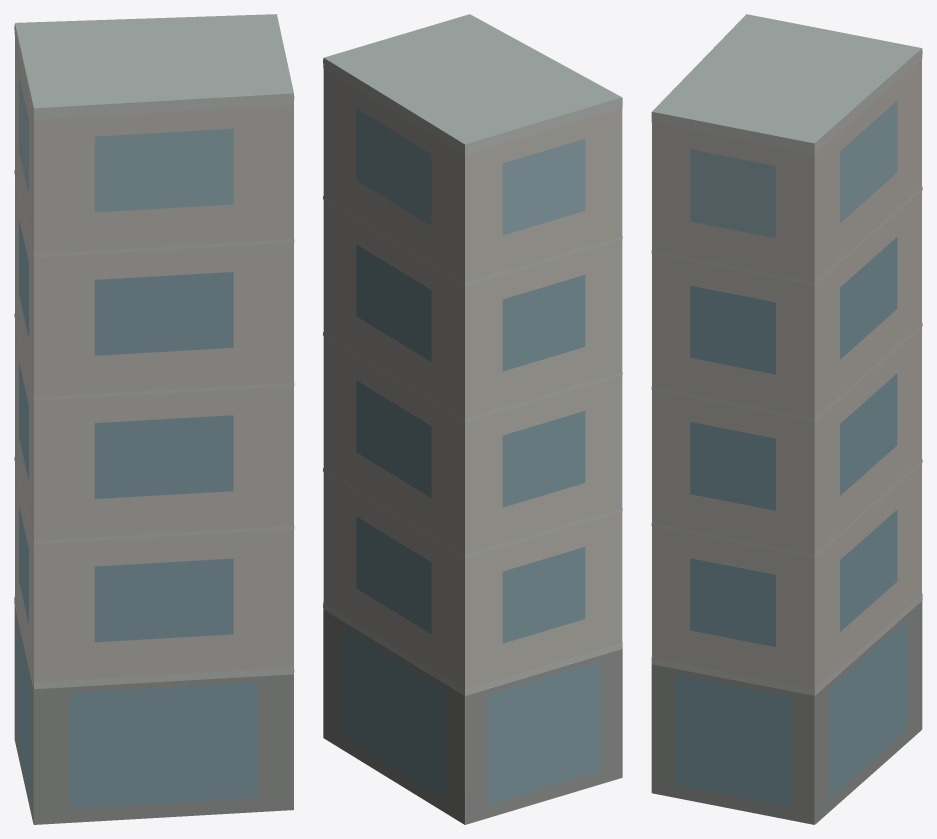
The model's file is survey-upis-32708594.glb.
The picture shows the model from 3 angles, left to right: view 1: azimuth 30°, elevation 25°; view 2: azimuth 150°, elevation 25°; view 3: azimuth 270°, elevation 25°; orthographic projection. The views are drawn at different scales.
Visible parts, largest first — view 1: survey-upis-32708594.tmp; view 2: survey-upis-32708594.tmp; view 3: survey-upis-32708594.tmp.
Boxes of the visible parts, x1,y1,x2,y2 form: survey-upis-32708594.tmp: [14, 14, 294, 824]; survey-upis-32708594.tmp: [323, 14, 622, 824]; survey-upis-32708594.tmp: [651, 14, 922, 824].
Size of the model in its own units: 6.24 by 15.25 by 5.51.
